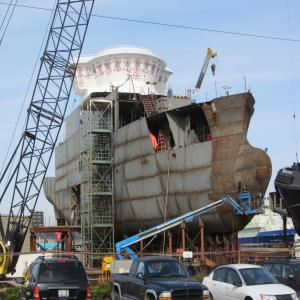Vehicle-registration-plate: (58, 289, 70, 299)
